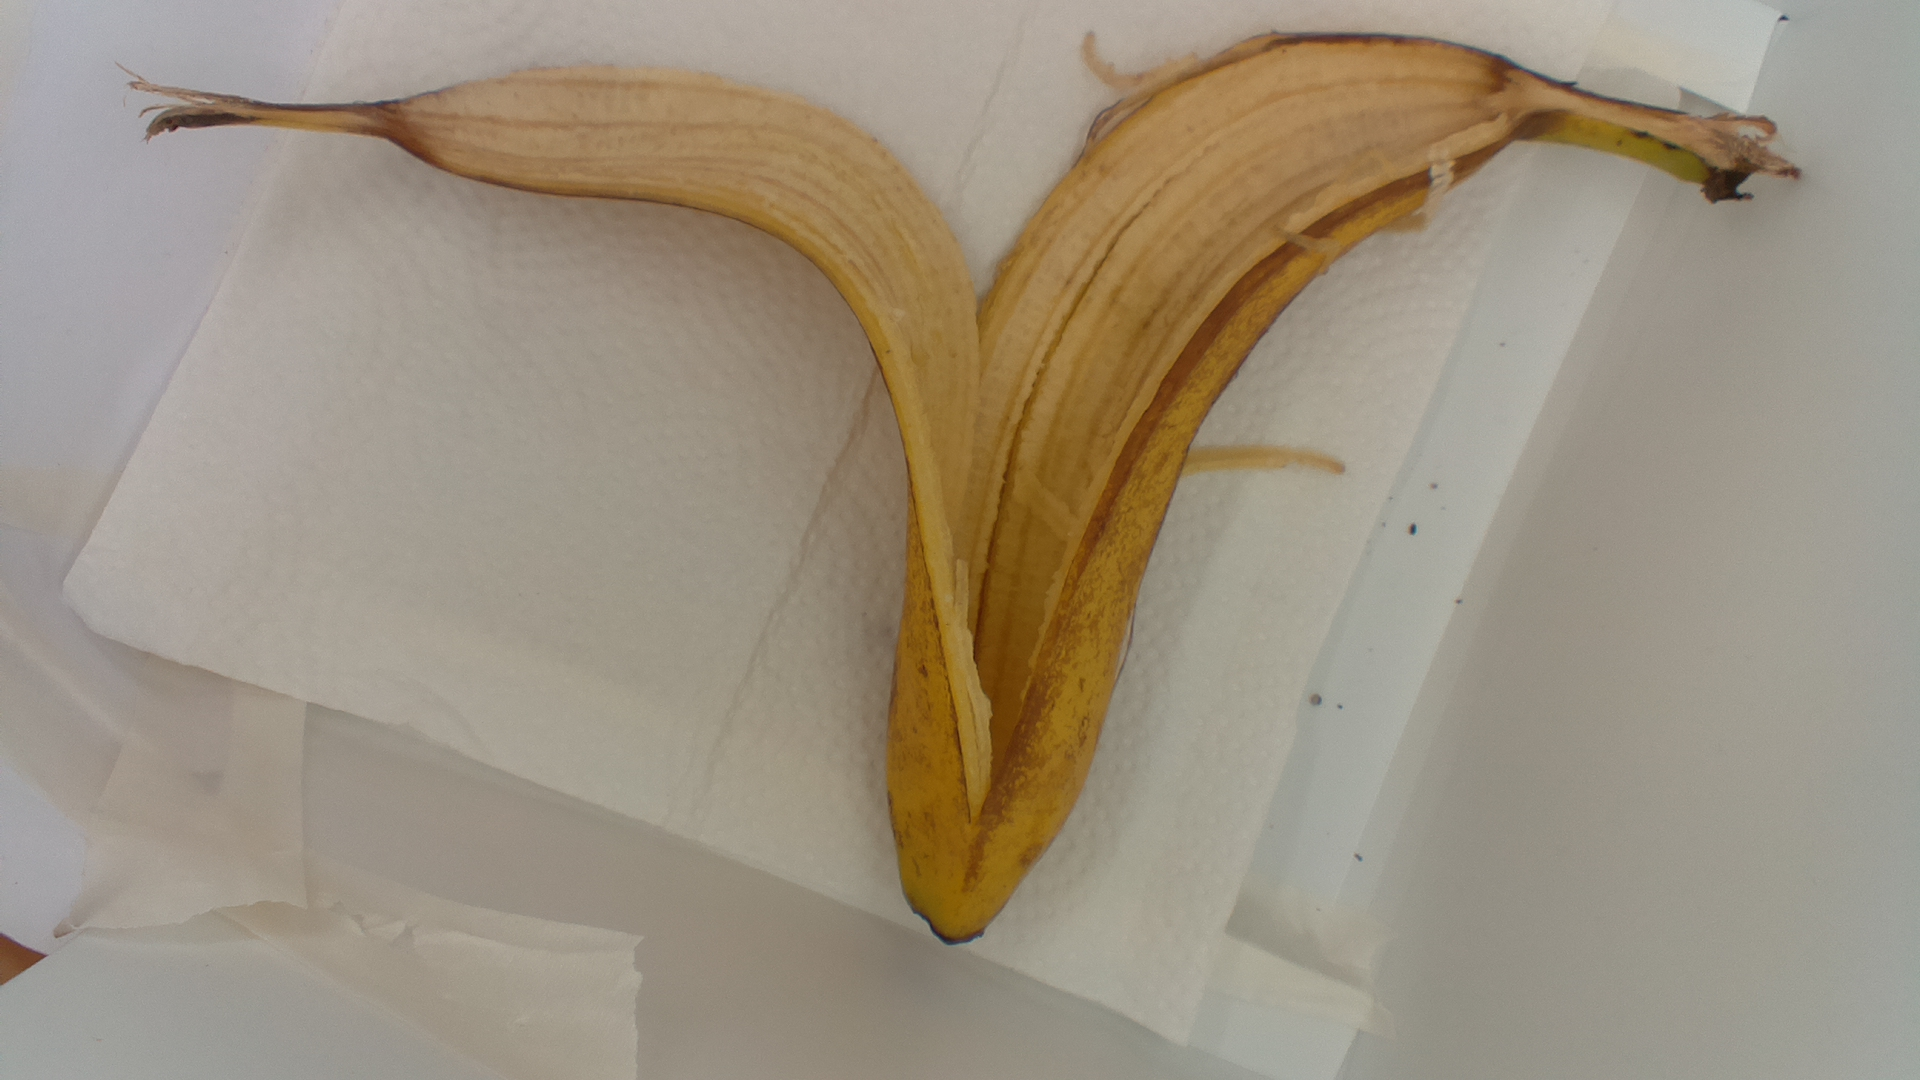fruit: (128, 1, 1817, 953)
